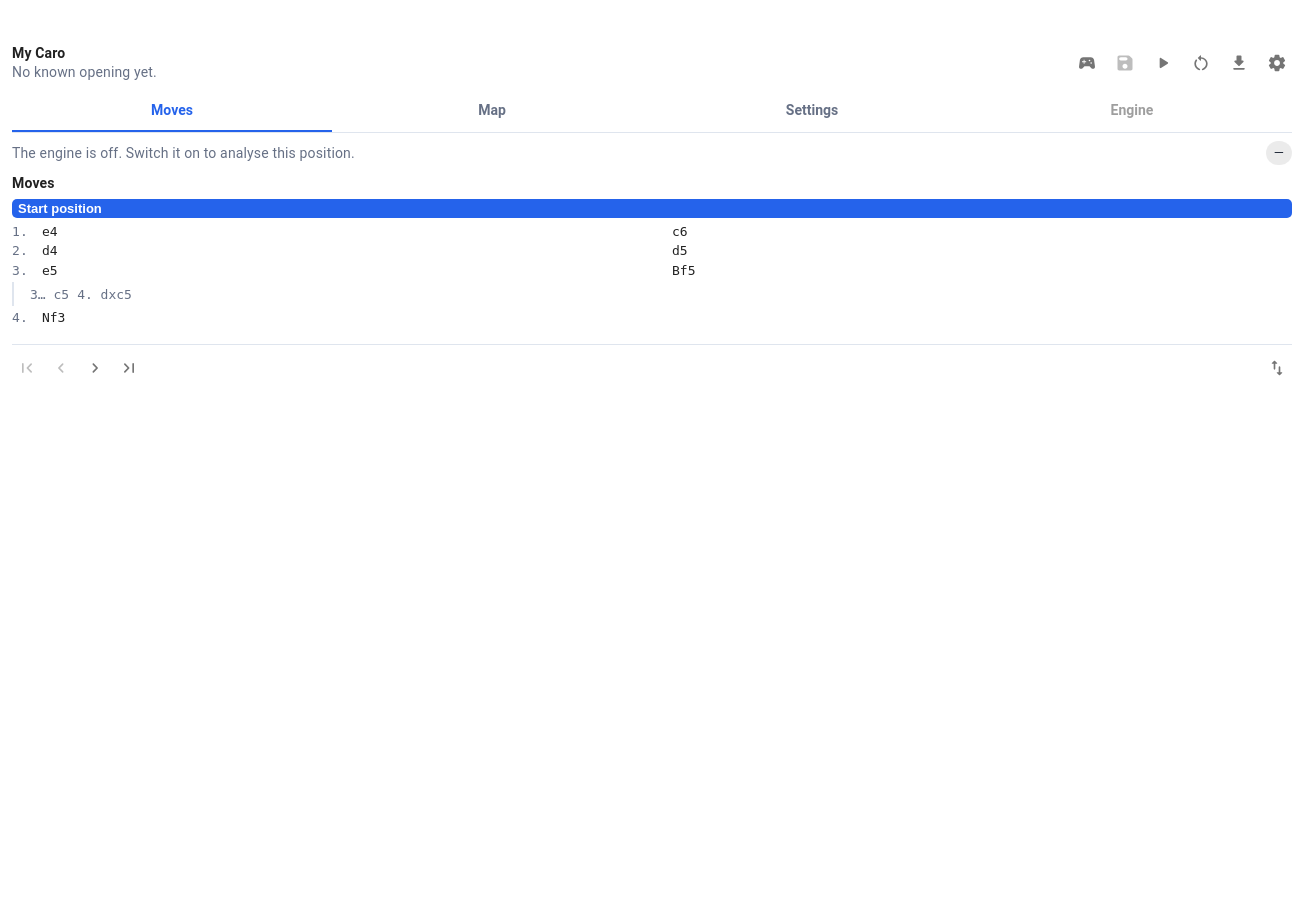
Test case: a repertoire's settings screen › opens the board facing the main color, with the description above the lines
The image size is (1304, 900).
// From the board's own gear, and back to the board on Save.
Click the link with test id "repertoire-board-settings".
click(1277, 63)  # box x1=1267 y1=53 x2=1287 y2=73
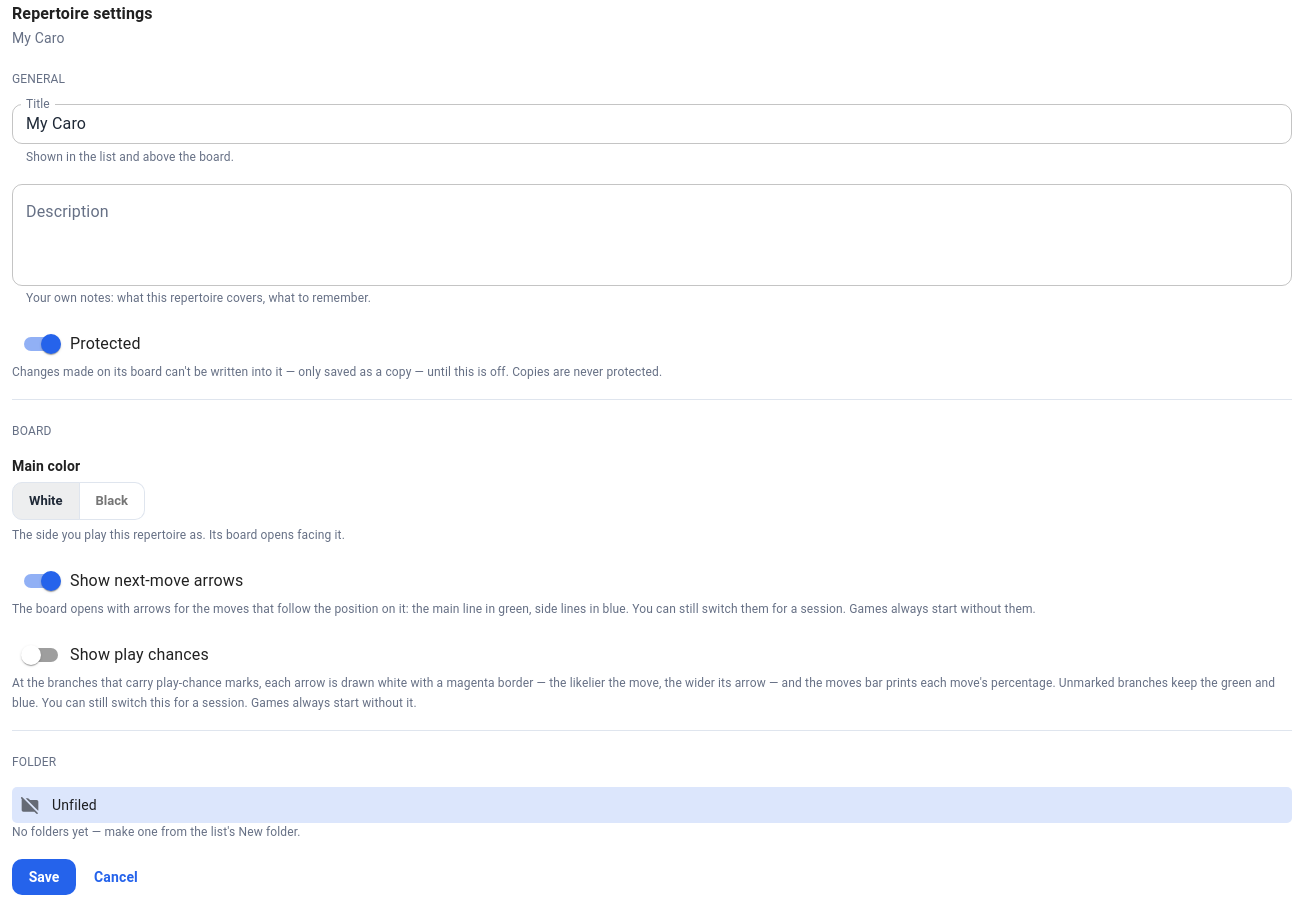
Click the button with test id "repertoire-settings-color-black".
click(112, 501)  # box x1=78 y1=482 x2=145 y2=520
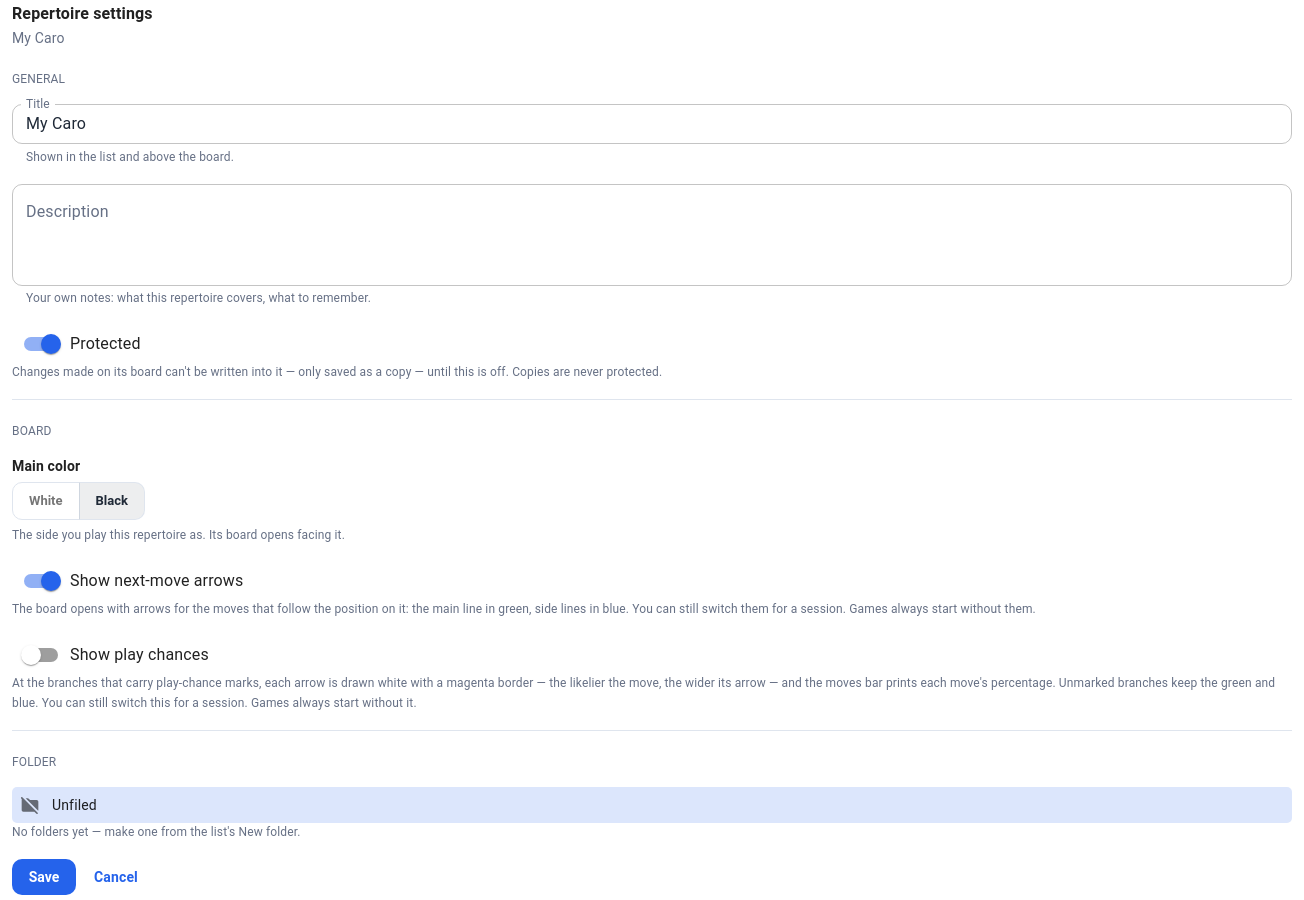
Type "Play it from Black." into the text box with test id "repertoire-settings-description".
click(652, 235); type("Play it from Black.")  # box x1=26 y1=200 x2=1278 y2=269
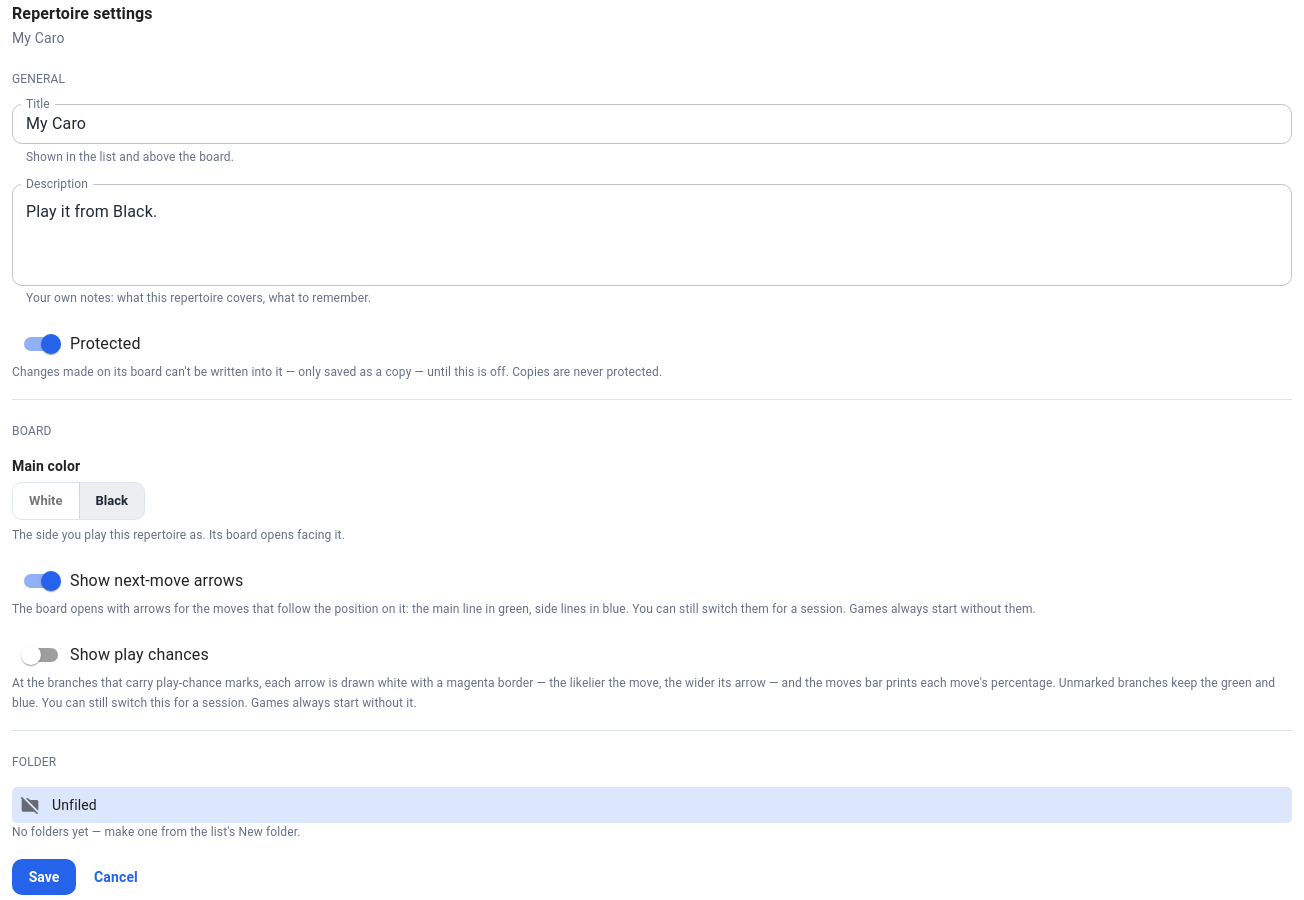
Click the button with test id "repertoire-settings-save".
click(44, 877)  # box x1=12 y1=859 x2=76 y2=895
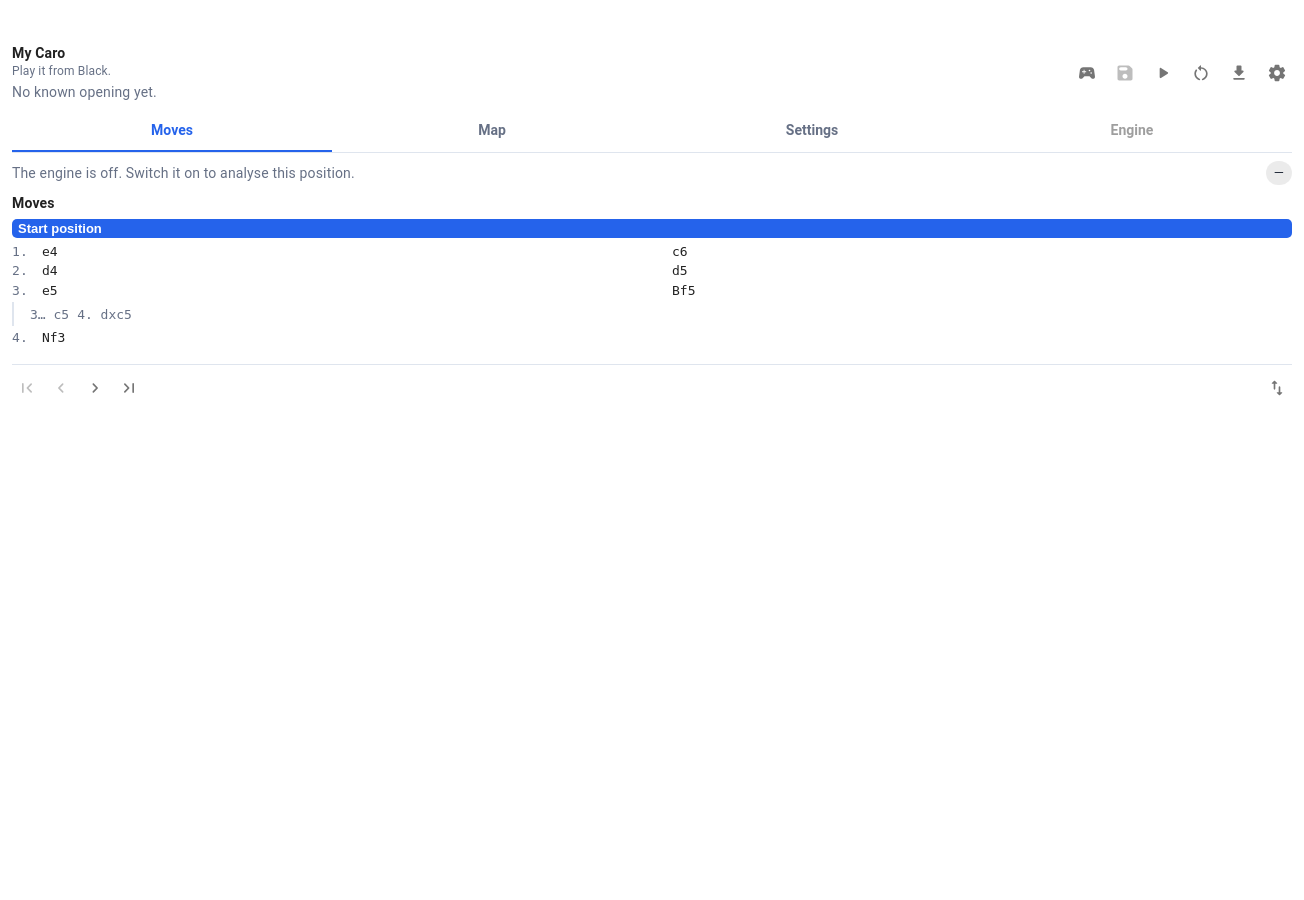
Check: the text with test id "repertoire-board-description" reads "Play it from Black.", box x1=12 y1=64 x2=111 y2=78
